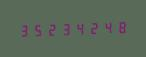eight: (115, 18, 128, 35)
five: (31, 21, 44, 37)
four: (73, 19, 86, 36), (101, 19, 114, 35)
three: (17, 21, 30, 38), (59, 20, 72, 37)
two: (45, 20, 58, 37), (87, 19, 100, 36)
